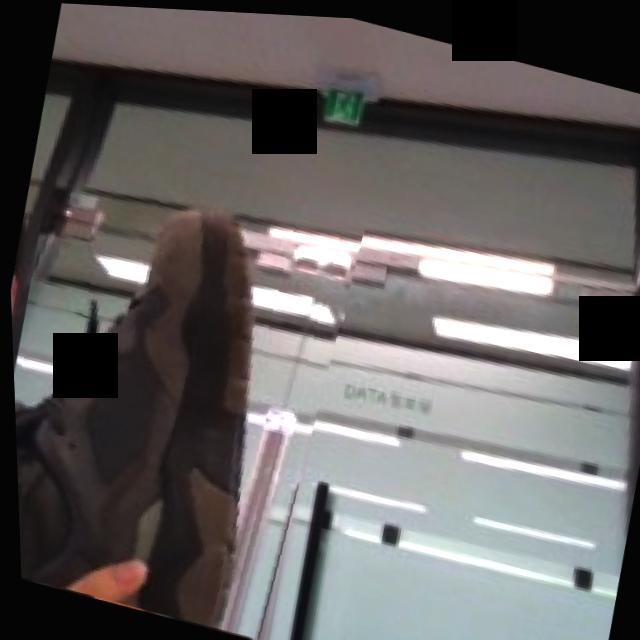shoe: (4, 137, 376, 640)
